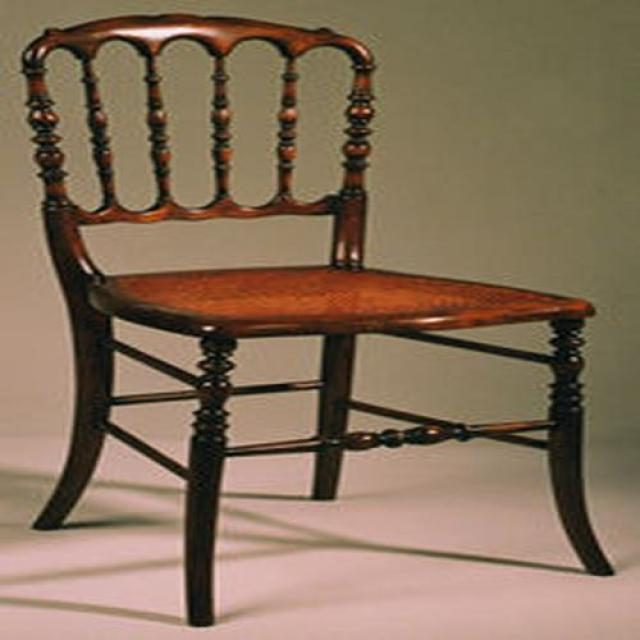chair: (27, 14, 614, 628)
